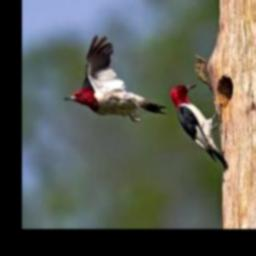Woodpecker: (63, 35, 167, 122), (169, 83, 229, 171)
